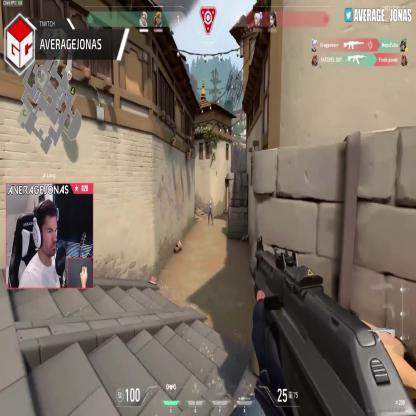enemy: (208, 198, 213, 224)
enemy_head: (209, 199, 211, 204)
